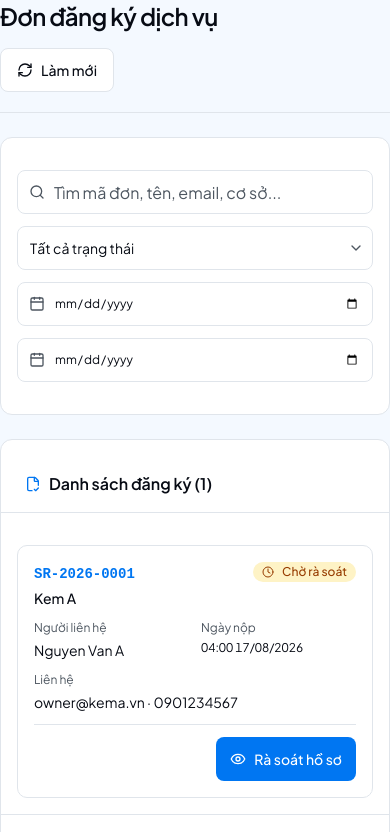
Test: ServiceRegistrationsView component › uses the policy revision as acceptance evidence when the API omits the legacy boolean
Click the button "SR-2026-0001": (84, 574) 34,564 -> 135,584
(page scrolled)
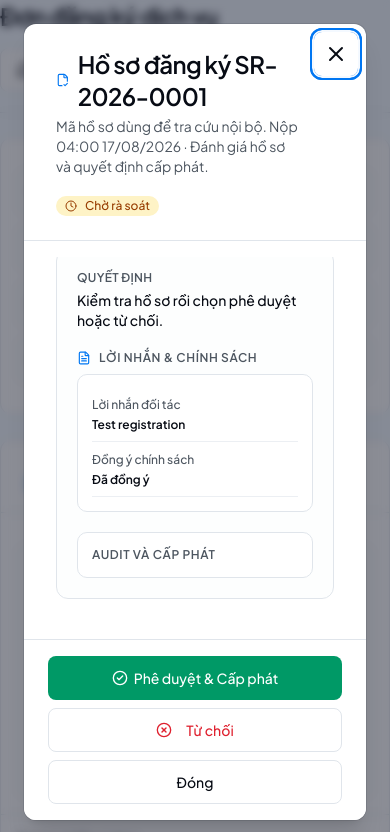
Result: the text "Đã đồng ý" is shown at 92,472 -> 150,487
